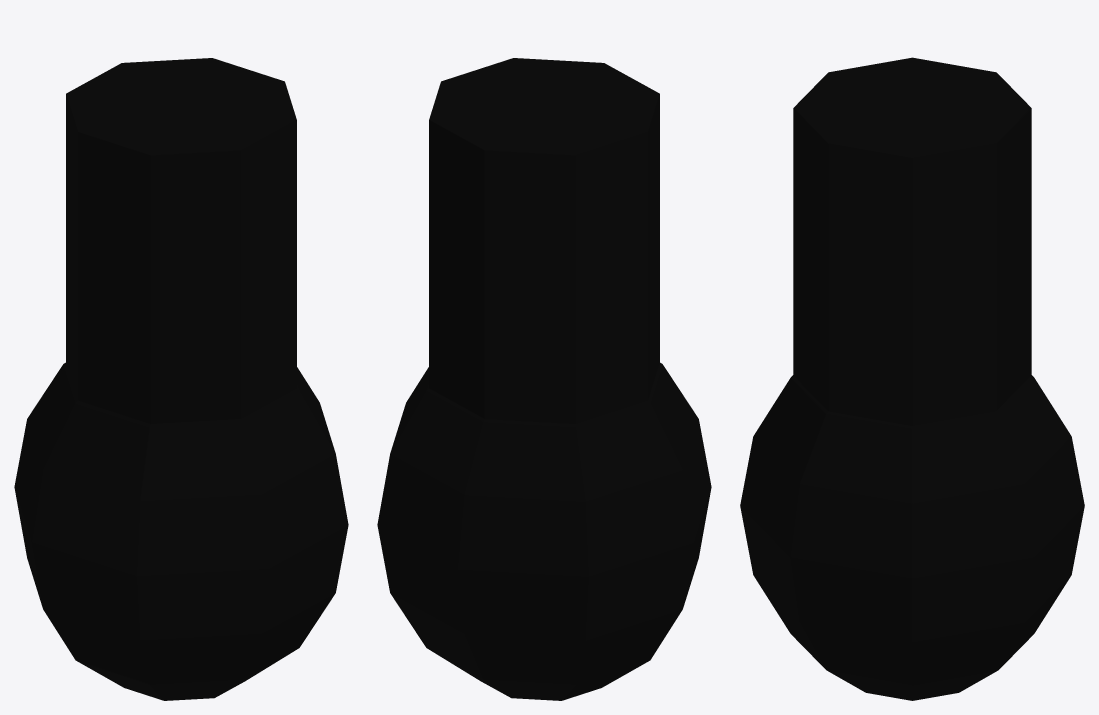
File: ImbuedWilds.glb
3 views of the same model, side by side, from view 1: azimuth 30°, elevation 25°; view 2: azimuth 150°, elevation 25°; view 3: azimuth 270°, elevation 25° (orthographic).
Visible parts, largest first — view 1: Item, Neck; view 2: Item, Neck; view 3: Item, Neck.
Part boxes in pixels (left/top/right/bottom): Item: left=14, top=362, right=348, bottom=700; Neck: left=66, top=58, right=296, bottom=423; Item: left=377, top=362, right=711, bottom=700; Neck: left=429, top=58, right=659, bottom=423; Item: left=740, top=375, right=1084, bottom=700; Neck: left=793, top=57, right=1031, bottom=425.
Bounding box in the file's own units: 0.9507 × 1.91 × 0.9507.
4 materials, 4 textured.
